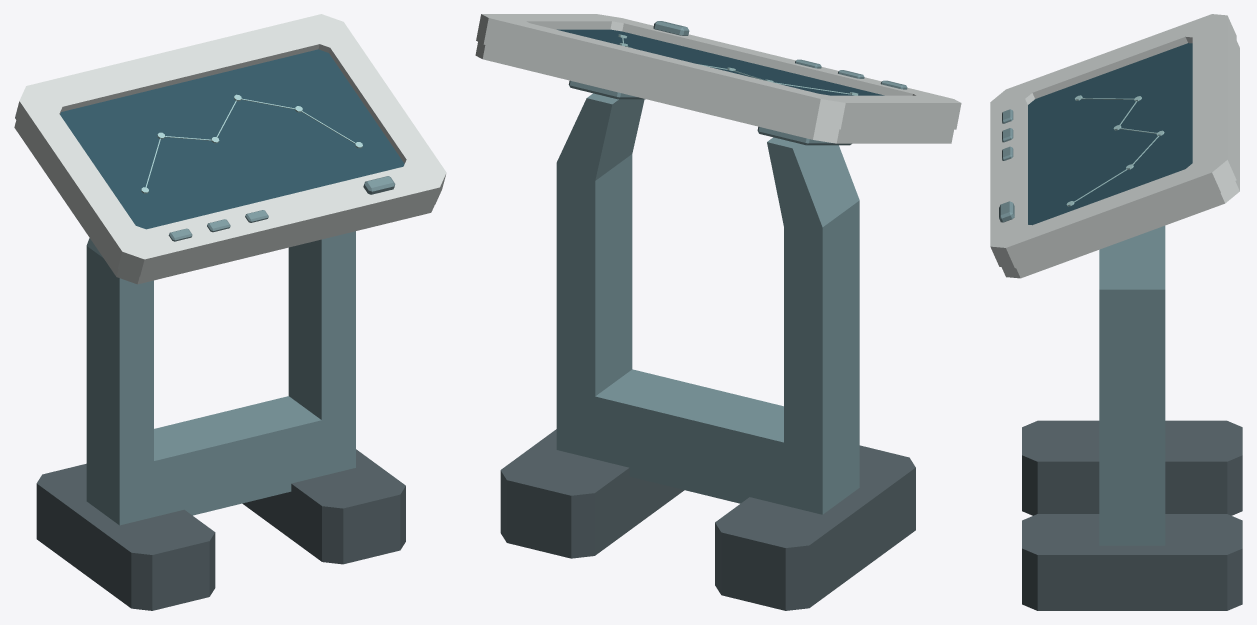
The picture shows the model from 3 angles, left to right: view 1: azimuth 30°, elevation 25°; view 2: azimuth 150°, elevation 25°; view 3: azimuth 270°, elevation 25°; orthographic projection. The views are drawn at different scales.
Visible parts, largest first — view 1: Open U-shaped structural yoke, Recessed static star-chart display, Continuous raised instrument bezel, Instrument foot -0.25, Instrument foot 0.25, Chamfered console rear shell; view 2: Open U-shaped structural yoke, Continuous raised instrument bezel, Instrument foot -0.25, Instrument foot 0.25, Chamfered console rear shell, Recessed static star-chart display; view 3: Continuous raised instrument bezel, Open U-shaped structural yoke, Recessed static star-chart display, Instrument foot 0.25, Instrument foot -0.25, Chamfered console rear shell.
Part boxes in pixels (bbox=[...]): Open U-shaped structural yoke: bbox=[86, 231, 355, 525]; Recessed static star-chart display: bbox=[60, 49, 404, 229]; Continuous raised instrument bezel: bbox=[15, 14, 446, 276]; Instrument foot -0.25: bbox=[36, 463, 215, 610]; Instrument foot 0.25: bbox=[242, 449, 405, 564]; Chamfered console rear shell: bbox=[14, 120, 434, 284]; Open U-shaped structural yoke: bbox=[556, 93, 859, 514]; Continuous raised instrument bezel: bbox=[476, 14, 961, 129]; Instrument foot -0.25: bbox=[715, 445, 915, 610]; Instrument foot 0.25: bbox=[500, 429, 684, 558]; Chamfered console rear shell: bbox=[475, 42, 953, 143]; Recessed static star-chart display: bbox=[557, 29, 884, 95]; Continuous raised instrument bezel: bbox=[990, 14, 1236, 268]; Open U-shaped structural yoke: bbox=[1099, 225, 1165, 545]; Recessed static star-chart display: bbox=[1028, 43, 1192, 225]; Instrument foot 0.25: bbox=[1022, 514, 1242, 610]; Instrument foot -0.25: bbox=[1022, 420, 1242, 515]; Chamfered console rear shell: bbox=[1002, 41, 1239, 278].
Size of the model in its own units: 0.85 by 1.14 by 0.572.
